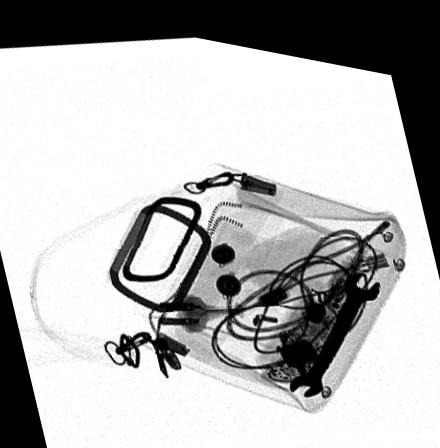Wrench: (287, 256, 383, 387)
